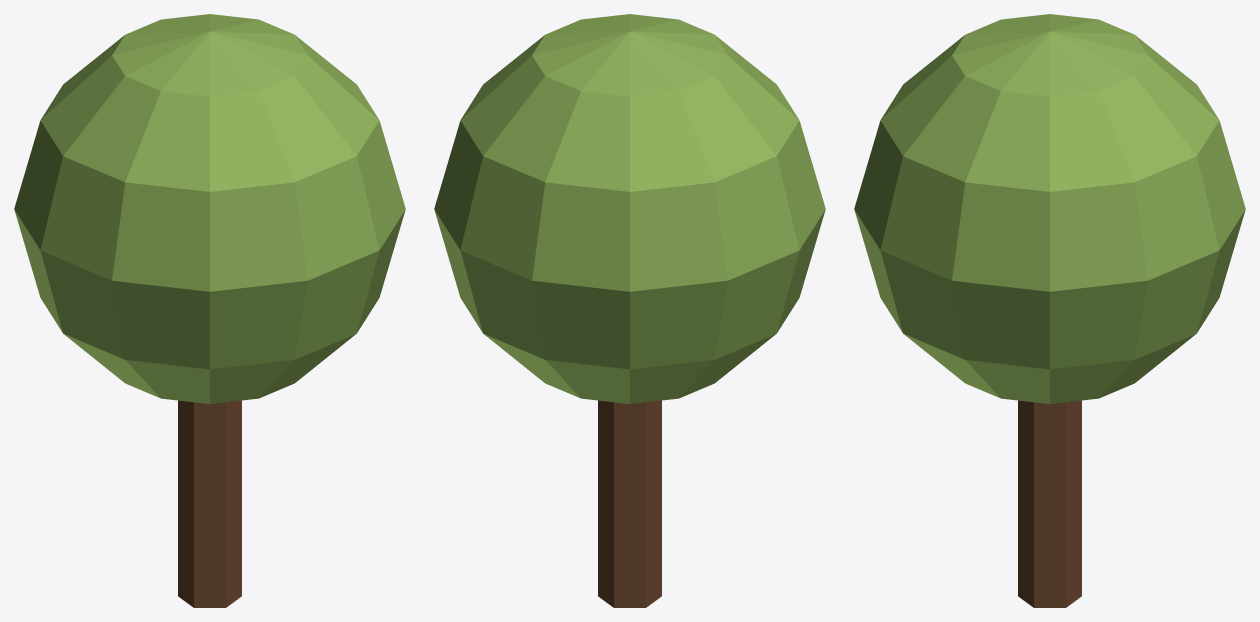
The model's file is tree_lime.glb.
3 renders of one model, left to right at view 1: azimuth 30°, elevation 25°; view 2: azimuth 150°, elevation 25°; view 3: azimuth 270°, elevation 25°, orthographic.
Visible parts, largest first — view 1: tree_lime; view 2: tree_lime; view 3: tree_lime.
Boxes of the visible parts, x1=… form: tree_lime: x1=14, y1=14, x2=405, y2=607; tree_lime: x1=434, y1=14, x2=825, y2=607; tree_lime: x1=854, y1=14, x2=1245, y2=607.
Bounding box in the file's own units: 0.22 × 0.35 × 0.22.
